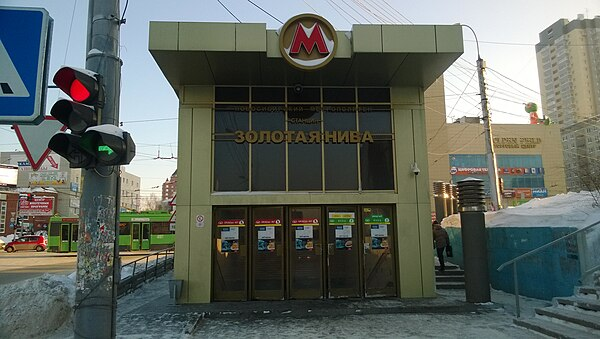tl: (54, 66, 131, 166)
